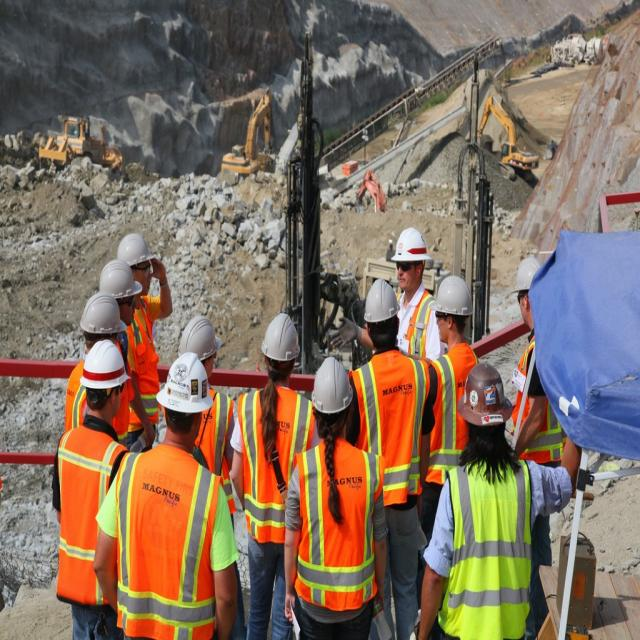helmet: (154, 350, 217, 415), (460, 360, 516, 425), (309, 356, 355, 416), (78, 338, 132, 389), (433, 272, 478, 321), (80, 290, 129, 334), (260, 312, 300, 363), (178, 313, 224, 357), (361, 276, 400, 324), (99, 258, 143, 298), (116, 232, 158, 272), (390, 229, 433, 266), (508, 254, 543, 294)
vest: (115, 446, 218, 640), (441, 456, 539, 638), (294, 441, 378, 610), (54, 423, 126, 607), (238, 378, 317, 545), (352, 343, 427, 502), (432, 342, 482, 486)
